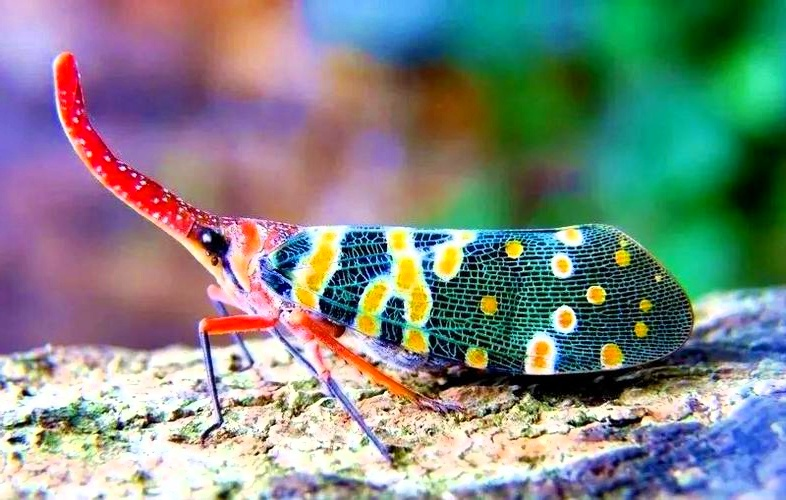Stink_Bug: (90, 102, 677, 370)
